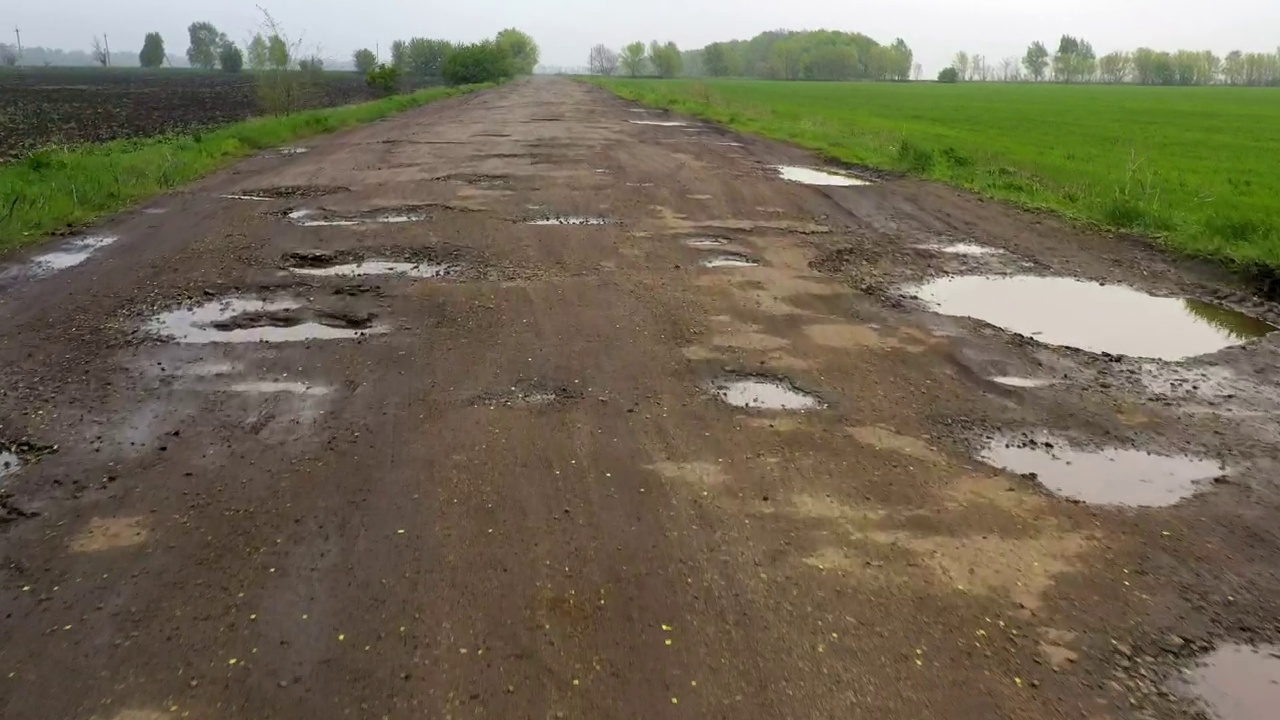pothole: (840, 256, 1280, 368), (963, 433, 1246, 509), (1115, 623, 1280, 719), (115, 296, 390, 349), (676, 366, 846, 422)
